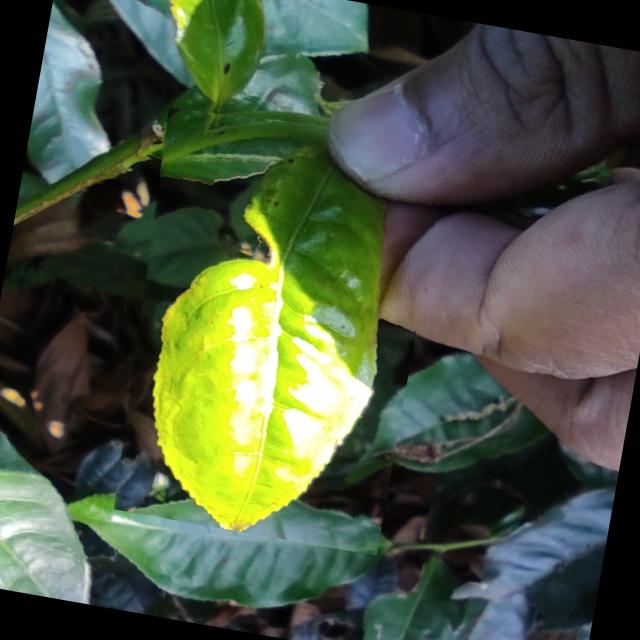Category C(4-7 days): (98, 90, 448, 556)
